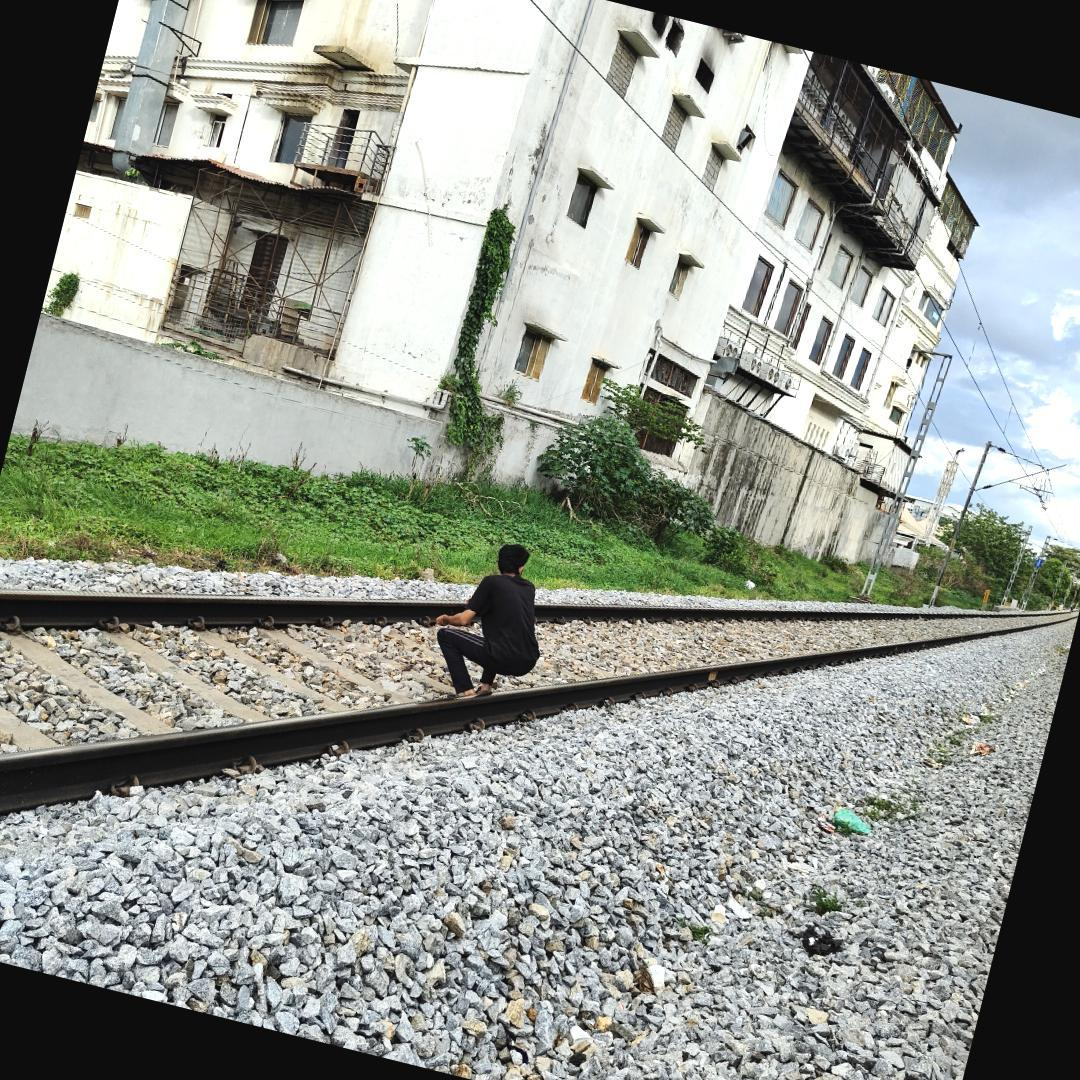sitting: (421, 529, 550, 708)
